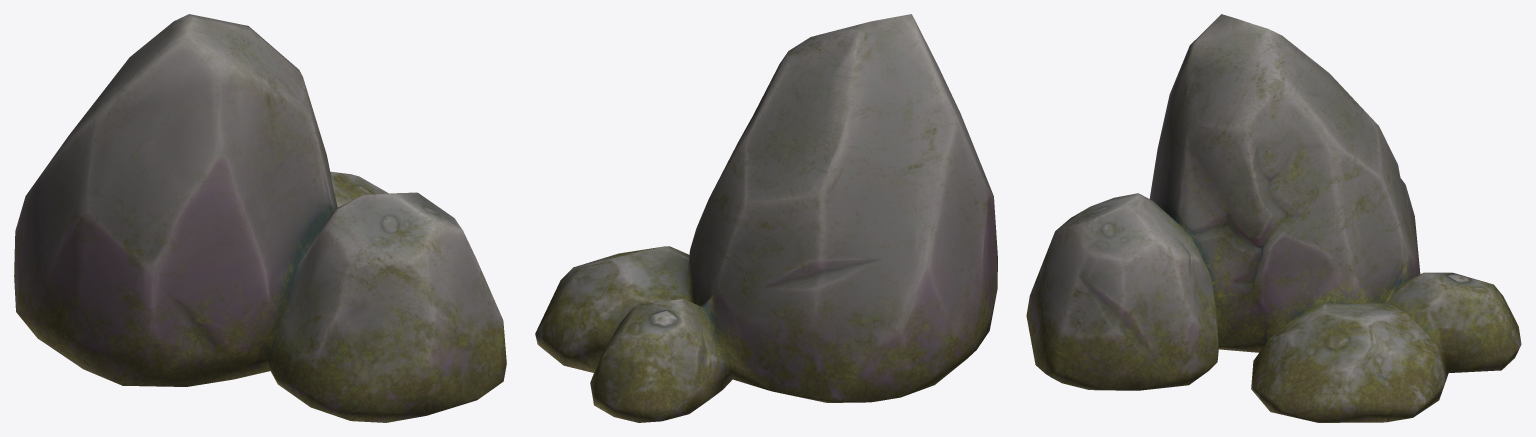
The model's file is ROK0110034.fbx.
3 views of the same model, side by side, from view 1: azimuth 30°, elevation 25°; view 2: azimuth 150°, elevation 25°; view 3: azimuth 270°, elevation 25° (orthographic). The views are drawn at different scales.
Parts seen in each view (by area): view 1: smROK0110034; view 2: smROK0110034; view 3: smROK0110034.
Part boxes in pixels (left/top/right/bottom): smROK0110034: left=14, top=14, right=506, bottom=422; smROK0110034: left=535, top=14, right=997, bottom=422; smROK0110034: left=1026, top=14, right=1521, bottom=422.
Size of the model in its own units: 115 by 90.77 by 140.
1 material, 1 textured.
